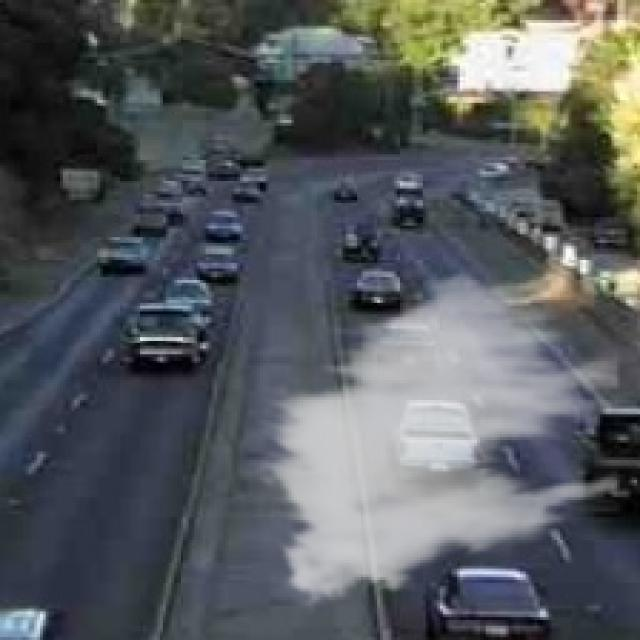Smoke: (255, 262, 620, 618)
